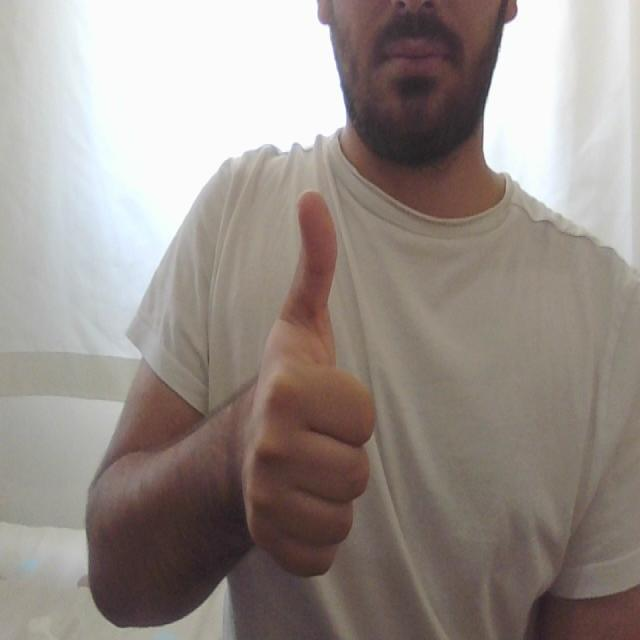Tamam: (225, 177, 390, 588)
